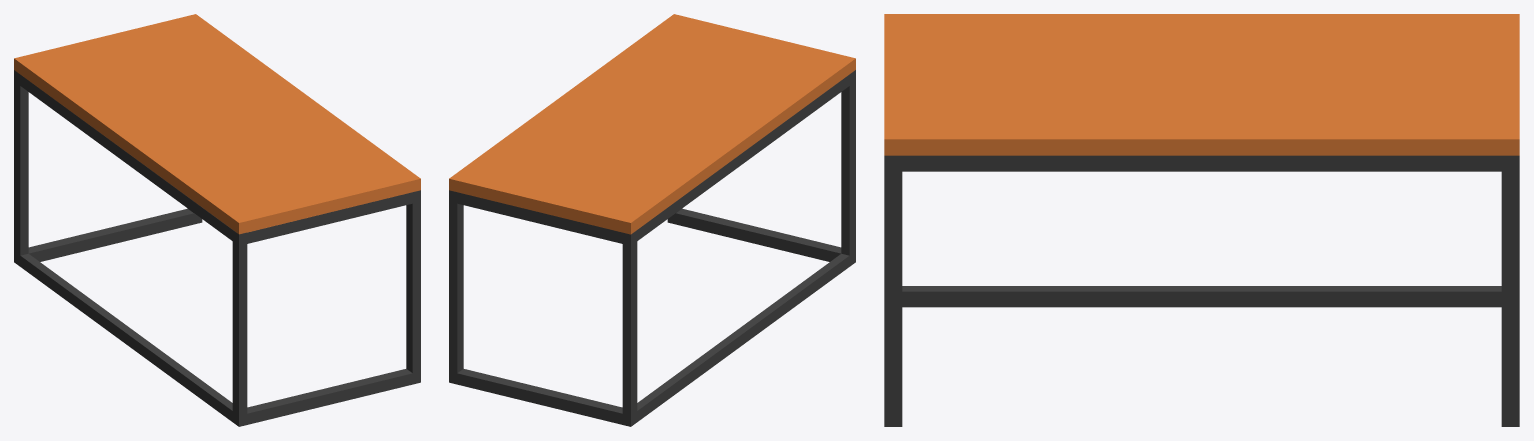
File: desk.glb
The picture shows the model from 3 angles, left to right: view 1: azimuth 30°, elevation 25°; view 2: azimuth 150°, elevation 25°; view 3: azimuth 270°, elevation 25°; orthographic projection. The views are drawn at different scales.
Parts seen in each view (by area): view 1: Desk; view 2: Desk; view 3: Desk.
Boxes of the visible parts, bbox=[...] form: Desk: bbox=[14, 14, 420, 426]; Desk: bbox=[449, 14, 855, 426]; Desk: bbox=[884, 14, 1519, 426].
Bounding box in the file's own units: 0.7 × 0.75 × 1.5.
